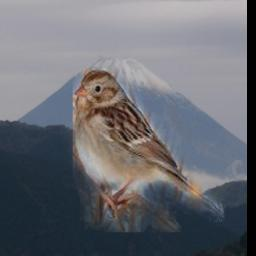Sparrow: (74, 69, 240, 233)
